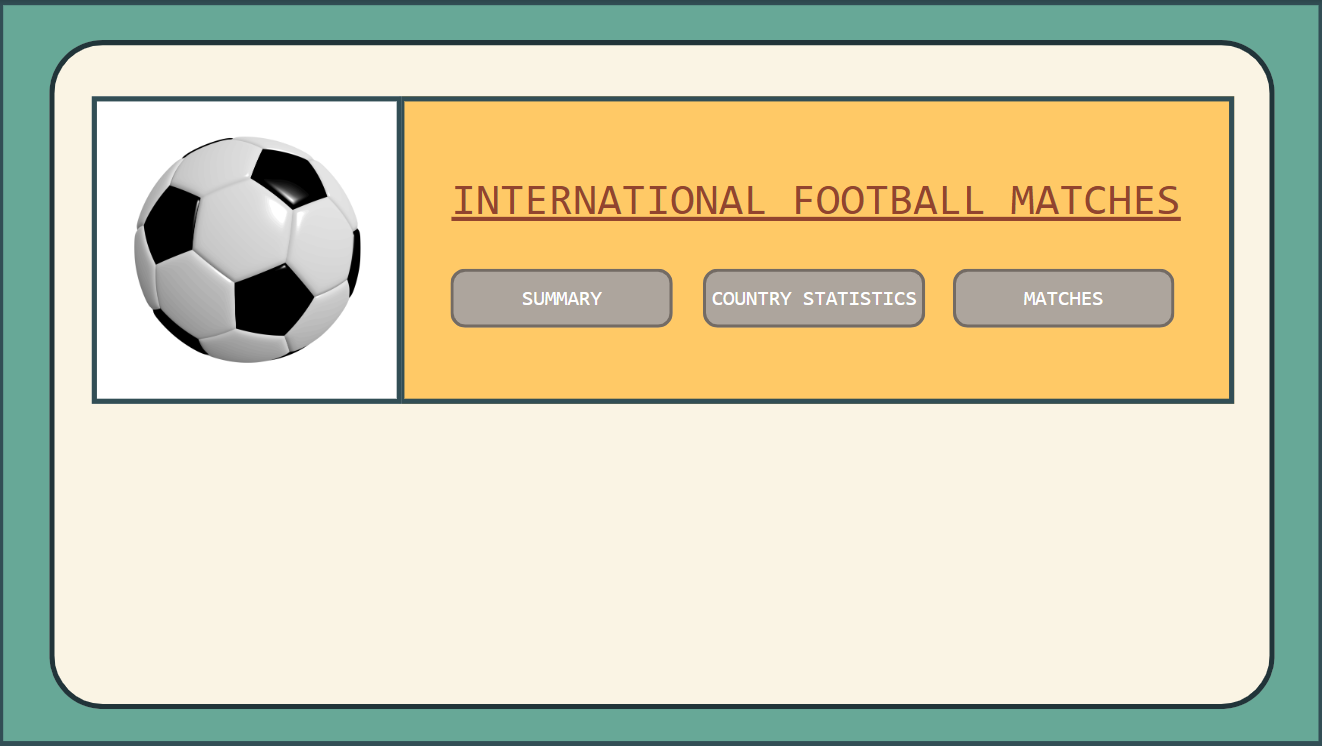

The dashboard page shown, as its layout file describes it:
{"tool":"powerbi","page":{"name":"COVER","canvas":[1280,720],"ordinal":0},"visuals":[{"type":"shape","box":[0,0,1280,719.7],"z":0},{"type":"shape","box":[49.4,38.5,1182.5,645.5],"z":1000},{"type":"shape","box":[387.1,92.9,805.6,296.7],"z":2000},{"type":"textbox","box":[392,162.8,794.8,65.1],"z":3000},{"type":"shape","box":[90.5,92.9,299.1,296.7],"z":4000},{"type":"image","box":[126.6,115.8,227.9,250.9],"z":5000},{"type":"actionButton","title":"SUMMARY","box":[436.6,259.3,214.7,56.7],"z":6000},{"type":"actionButton","title":"SUMMARY","box":[921.4,259.3,213.5,56.7],"z":7000},{"type":"actionButton","title":"SUMMARY","box":[680.2,259.3,214.7,56.7],"z":8000}]}

Visuals, with their boxes in screenshot pixels (x1, y1, x2, y2), scaled from the page's 1280x720 canvas onto the 1322x746 screenshot:
shape: (x1=0, y1=0, x2=1321, y2=745)
shape: (x1=51, y1=40, x2=1272, y2=709)
shape: (x1=400, y1=96, x2=1232, y2=404)
textbox: (x1=405, y1=169, x2=1226, y2=236)
shape: (x1=93, y1=96, x2=402, y2=404)
image: (x1=131, y1=120, x2=366, y2=380)
"SUMMARY" actionButton: (x1=451, y1=269, x2=673, y2=327)
"SUMMARY" actionButton: (x1=952, y1=269, x2=1172, y2=327)
"SUMMARY" actionButton: (x1=703, y1=269, x2=924, y2=327)
